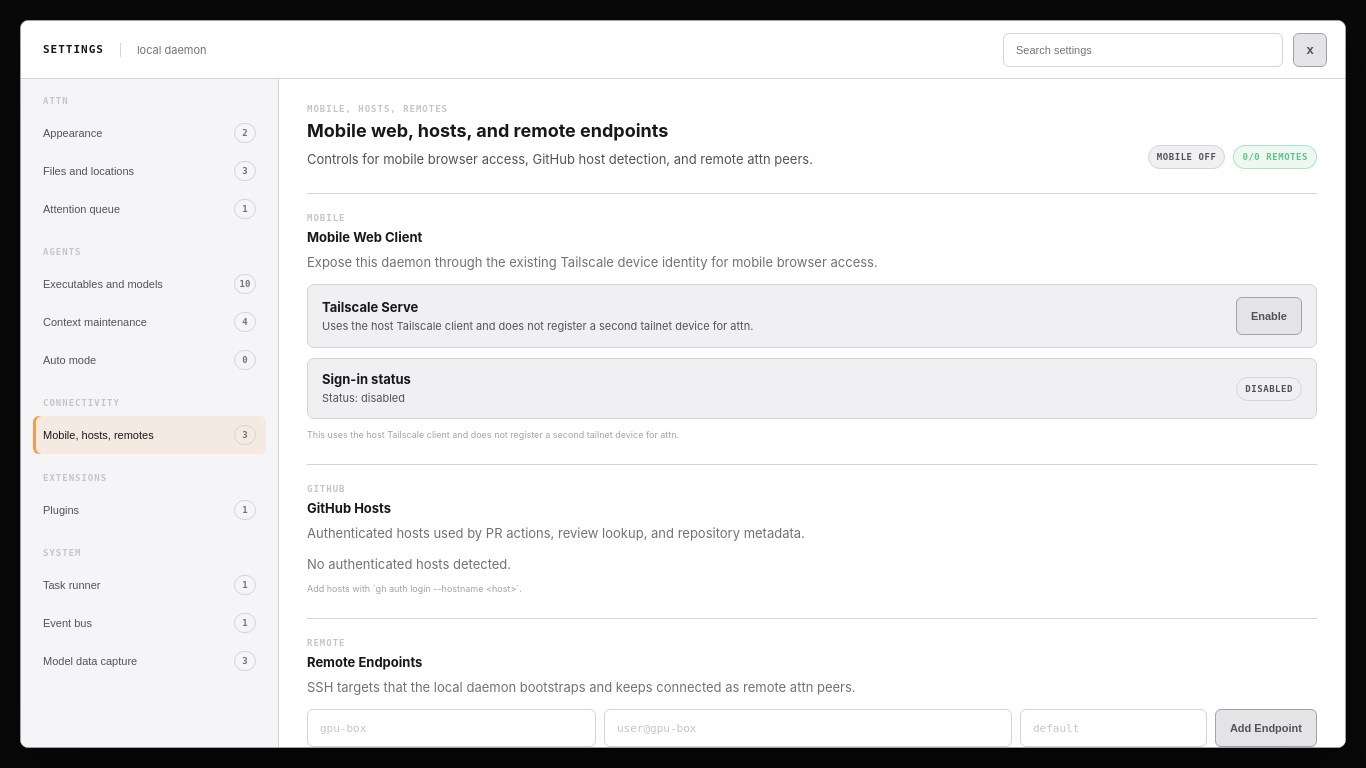
SettingsModal sections › keeps the reviewer model with the other model overrides, under agents
Click the button with test id "settings-nav-agents": x=150, y=284 [33,265,266,303]
(page scrolled)
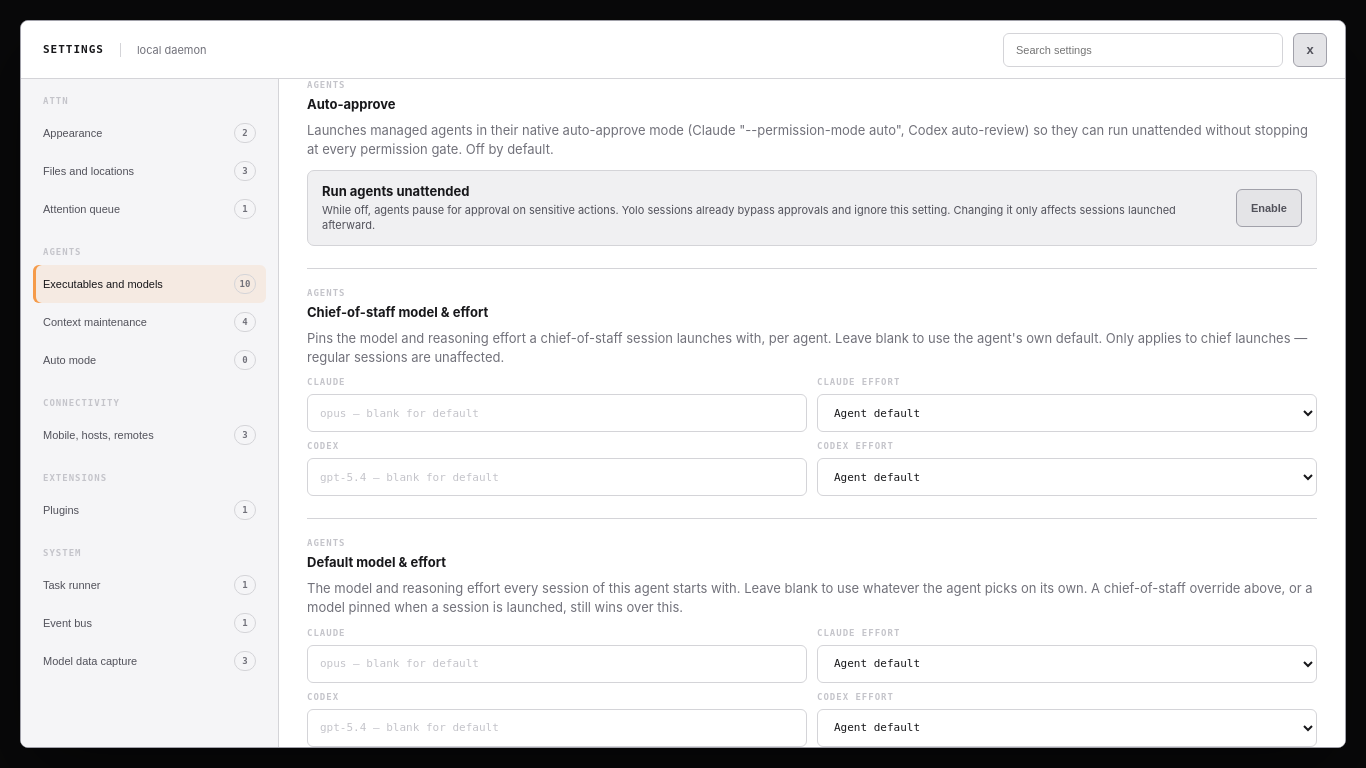
Now the field with test id "settings-chief-model-claude" is shown, box [307,394,807,432]
